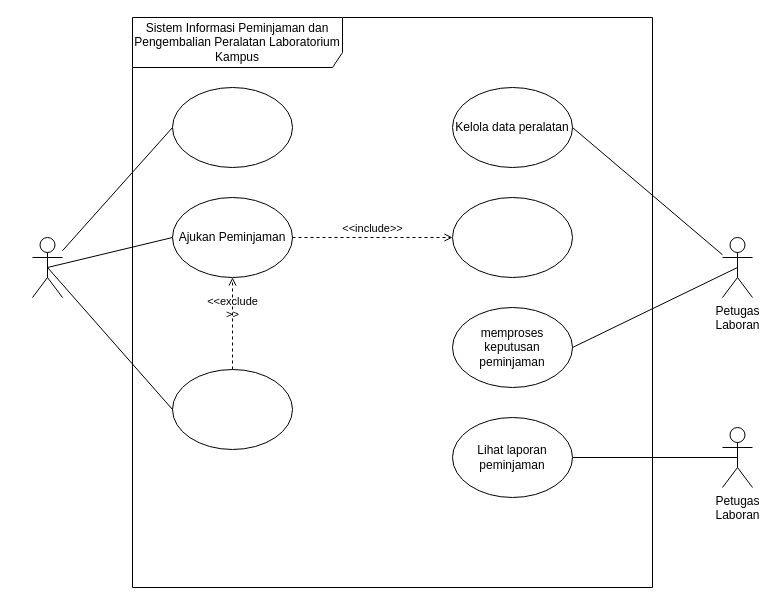
Some shapes in this 777 by 605 pixel diagram are drawn without their labels. Here are the shapes that lost their labels. From the top down, the centre of each, then its label:
At (x=232, y=127): "Lihat ketersediaan peralatan".
At (x=512, y=237): "Periksa Ketersediaan".
At (x=47, y=267): "Mahasiswa".
At (x=232, y=409): "cek bukti pengajuan".
